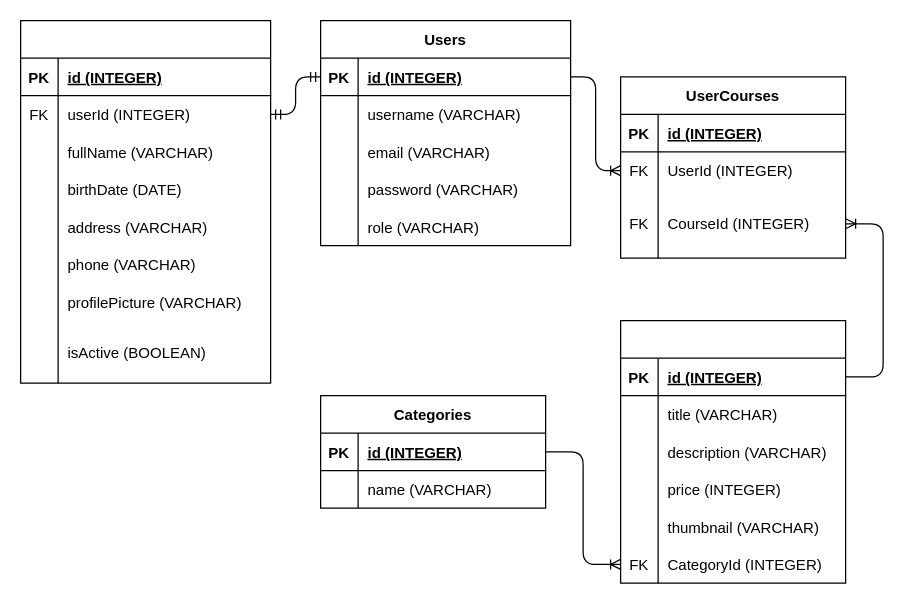
Image size: 904x604. Some labels were removed from this diagram. Each missing label, with the box of its shape:
Courses: (619, 319, 846, 583)
Profiles: (19, 19, 271, 383)
